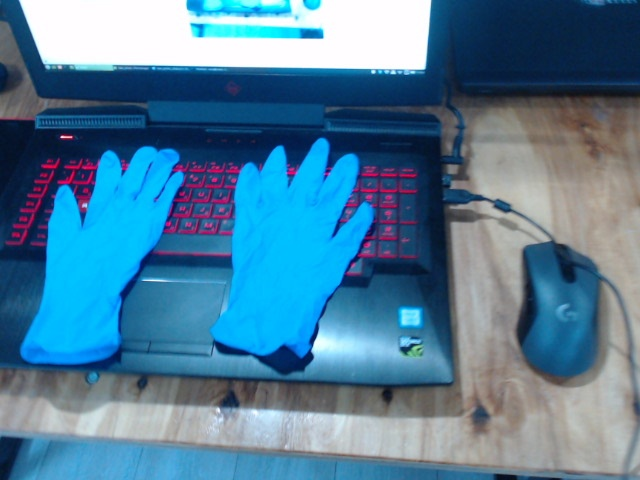medical_glove: (23, 143, 184, 360), (222, 138, 374, 357)
